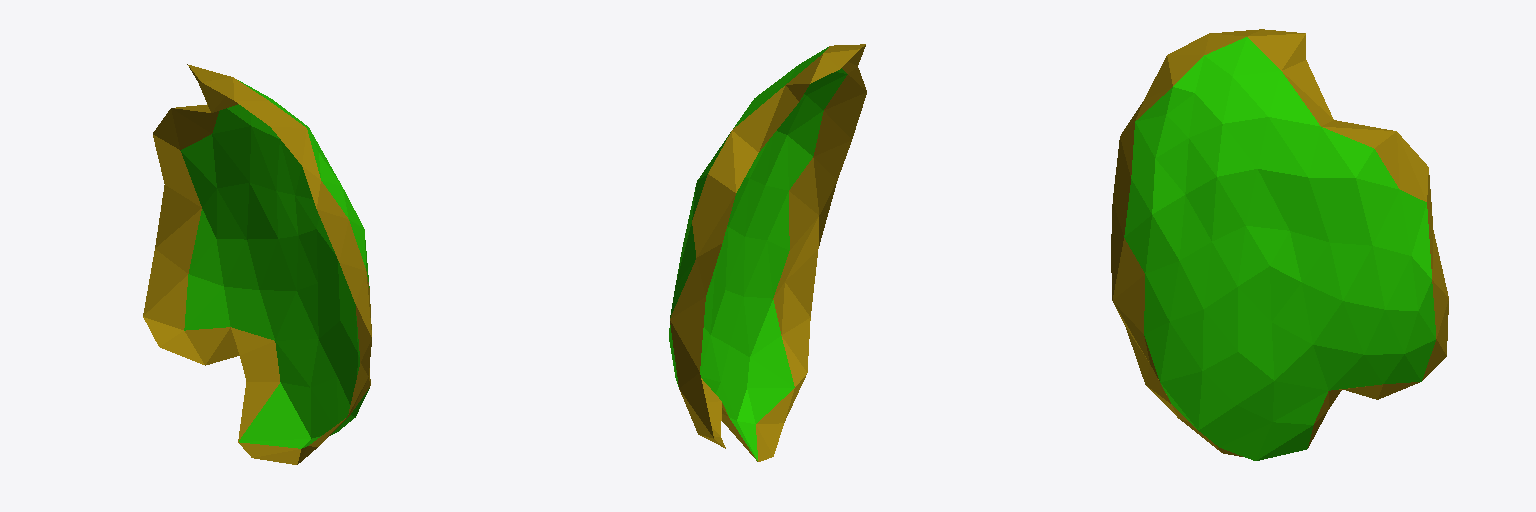
File: GrassLandMass_2.obj
3 views of the same model, side by side, from view 1: azimuth 30°, elevation 25°; view 2: azimuth 150°, elevation 25°; view 3: azimuth 270°, elevation 25° (orthographic).
Visible parts, largest first — view 1: Icosphere.003_Icosphere.005; view 2: Icosphere.003_Icosphere.005; view 3: Icosphere.003_Icosphere.005.
Boxes of the visible parts, box(x1,y1,x2,y2) form: Icosphere.003_Icosphere.005: box(143, 64, 371, 464); Icosphere.003_Icosphere.005: box(669, 44, 866, 461); Icosphere.003_Icosphere.005: box(1111, 29, 1448, 460).
Bounding box in the file's own units: 16.81 × 50.66 × 38.76.